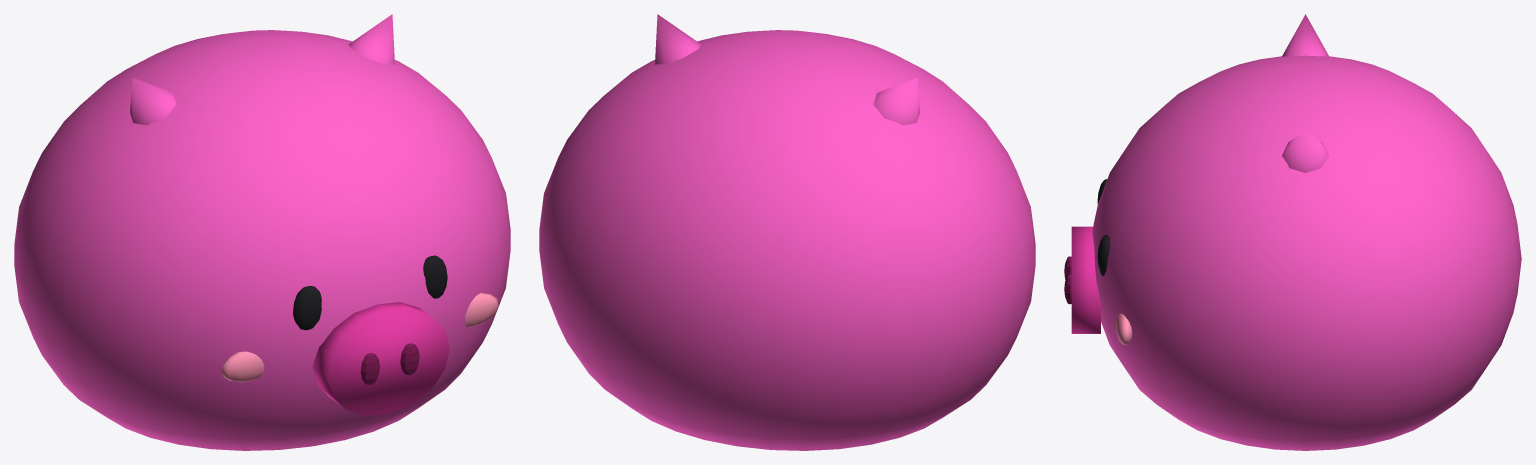
The model's file is domuz.glb.
3 renders of one model, left to right at view 1: azimuth 30°, elevation 25°; view 2: azimuth 150°, elevation 25°; view 3: azimuth 270°, elevation 25°, orthographic. The views are drawn at different scales.
Parts seen in each view (by area): view 1: domuz; view 2: domuz; view 3: domuz.
Part boxes in pixels (left/top/right/bottom): domuz: left=14, top=14, right=510, bottom=450; domuz: left=539, top=14, right=1035, bottom=450; domuz: left=1064, top=14, right=1521, bottom=450.
Size of the model in its own units: 0.9655 by 0.7405 by 0.9401.
